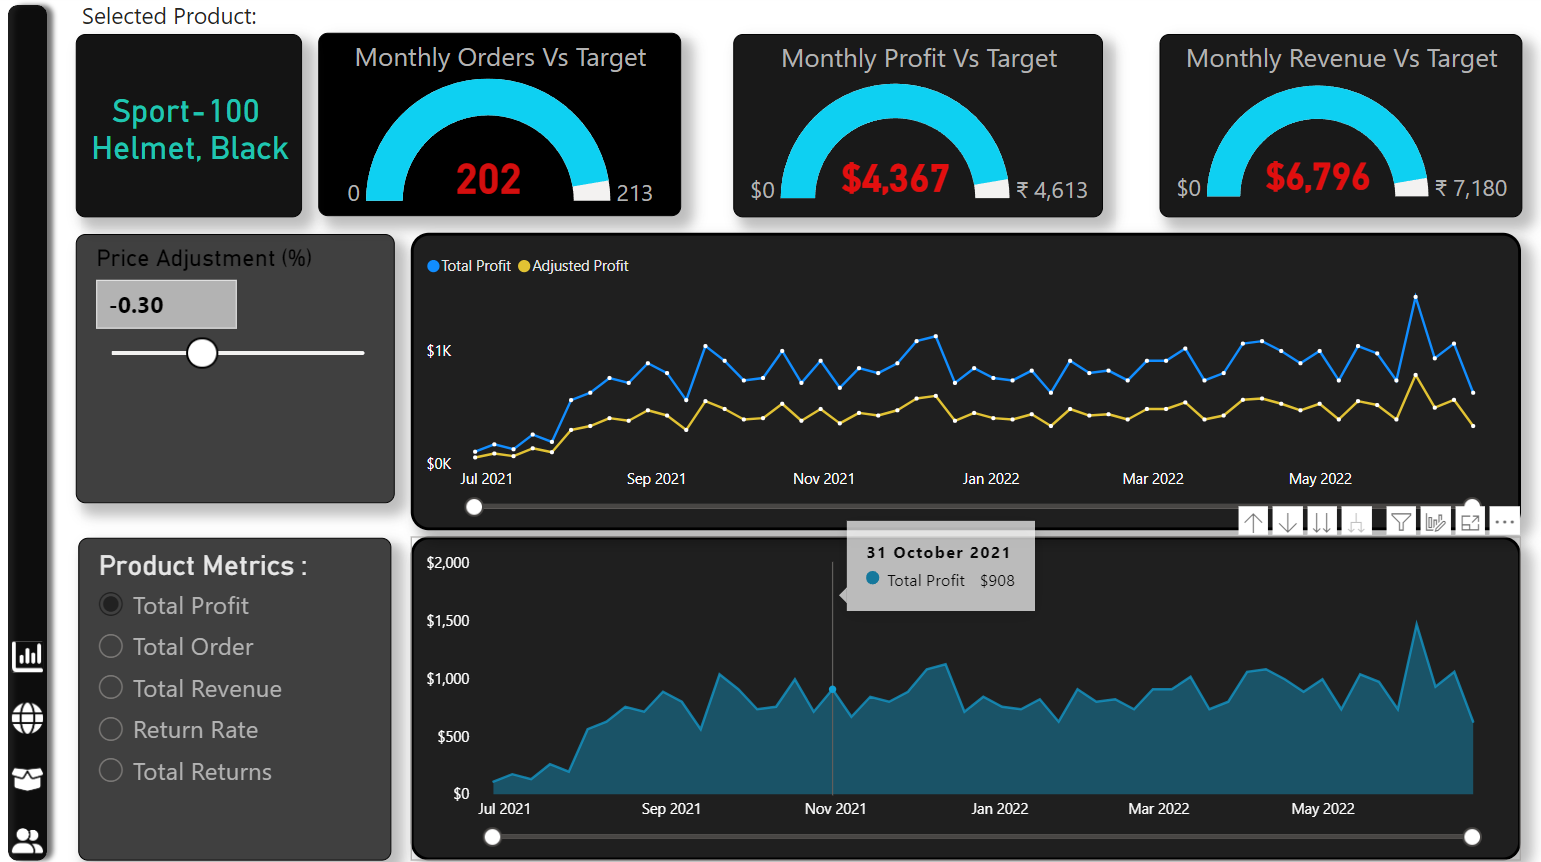

The page's visual inventory and layout, read from the dashboard file:
{"tool":"powerbi","page":{"name":"Product Detail","canvas":[1280,720],"ordinal":2},"visuals":[{"type":"shape","box":[0,0,50,719.8],"z":0},{"type":"gauge","title":"Monthly Orders Vs Target","fields":{"MaxValue":["Measure Table.Order Target"],"Y":["Measure Table.Total Order"]},"box":[263.4,31.8,297.2,150],"z":1000},{"type":"gauge","title":"Monthly Profit Vs Target","fields":{"Y":["Measure Table.Total Profit"],"MaxValue":["Measure Table.Profit Target"]},"box":[604,32.4,303.2,150],"z":2000},{"type":"gauge","title":"Monthly Revenue Vs Target","fields":{"Y":["Measure Table.Total Revenue"],"MaxValue":["Measure Table.Revenue Target"]},"box":[952.8,32.4,297.2,150],"z":3000},{"type":"lineChart","title":"Profit Trends","fields":{"Category":["Calendar Lookup.Date Hierarchy.Start of Month","Calendar Lookup.Date Hierarchy.Start of Week","Calendar Lookup.Date Hierarchy.Date"],"Y":["Measure Table.Total Profit","Measure Table.Adjusted Profit"]},"box":[339,196.2,910.4,243.8],"z":4000},{"type":"areaChart","title":"Returns Trends","fields":{"Y":["Measure Table.Total Profit"],"Category":["Calendar Lookup.Date Hierarchy.Start of Month","Calendar Lookup.Date Hierarchy.Start of Week","Calendar Lookup.Date Hierarchy.Date"]},"box":[339,444.4,910.4,265.5],"z":5000},{"type":"card","fields":{"Values":["Min(Product Lookup.ProductName)"]},"box":[64.7,32.4,185.8,150],"z":6000},{"type":"textbox","box":[64.7,0,185.8,44.3],"z":7000},{"type":"actionButton","box":[8.4,527.3,61.1,33.6],"z":8000},{"type":"actionButton","box":[8.4,627.2,61.1,33.6],"z":9000},{"type":"actionButton","box":[8.4,677.2,61.1,33.6],"z":10000},{"type":"actionButton","box":[8.4,577.3,61.1,33.6],"z":11000},{"type":"slicer","fields":{"Values":["Price Adjustment (%).Price Adjustment (%)"]},"box":[64.7,196.6,261.3,220.5],"z":12000},{"type":"slicer","fields":{"Values":["Product Metrics :.Product Metrics :"]},"box":[67.1,445.8,256.5,264.9],"z":13000}]}

Visuals, with their boxes in screenshot pixels (x1, y1, x2, y2), scaled from the page's 1280x720 canvas onto the 1541x862 screenshot:
shape: crop(0, 0, 60, 861)
"Monthly Orders Vs Target" gauge: crop(317, 38, 675, 218)
"Monthly Profit Vs Target" gauge: crop(727, 39, 1092, 218)
"Monthly Revenue Vs Target" gauge: crop(1147, 39, 1505, 218)
"Profit Trends" lineChart: crop(408, 235, 1504, 527)
"Returns Trends" areaChart: crop(408, 532, 1504, 850)
card - Min(Product Lookup.ProductName): crop(78, 39, 302, 218)
textbox: crop(78, 0, 302, 53)
actionButton: crop(10, 631, 84, 672)
actionButton: crop(10, 751, 84, 791)
actionButton: crop(10, 811, 84, 851)
actionButton: crop(10, 691, 84, 731)
slicer - Price Adjustment (%).Price Adjustment (%): crop(78, 235, 392, 499)
slicer - Product Metrics :.Product Metrics :: crop(81, 534, 390, 851)
